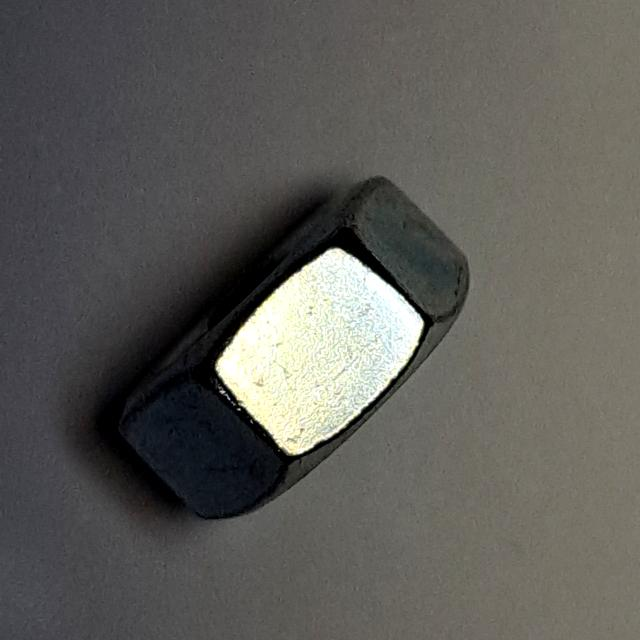Side_Excellent: (94, 164, 502, 533)
